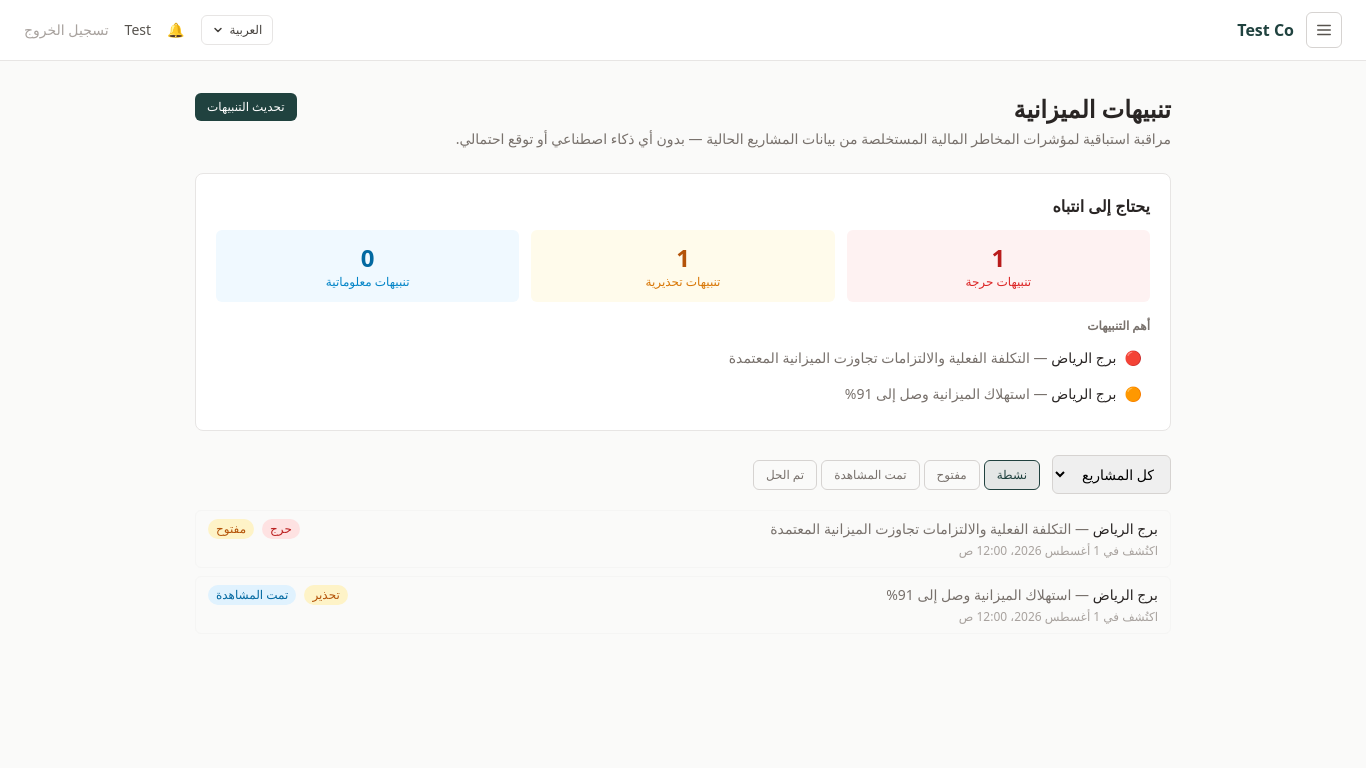
Test: <BudgetAlerts/> › a member cannot see acknowledge/resolve controls (UI-only mirror of the server gate)
Expected: the text "— التكلفة الفعلية والالتزامات تجاوزت الميزانية المعتمدة" below "أهم التنبيهات" is shown, [729,348,1030,367]
Click the text "— التكلفة الفعلية والالتزامات تجاوزت الميزانية المعتمدة" below "أهم التنبيهات".
click(1041, 358)  # box [729,348,1051,367]
(page scrolled)
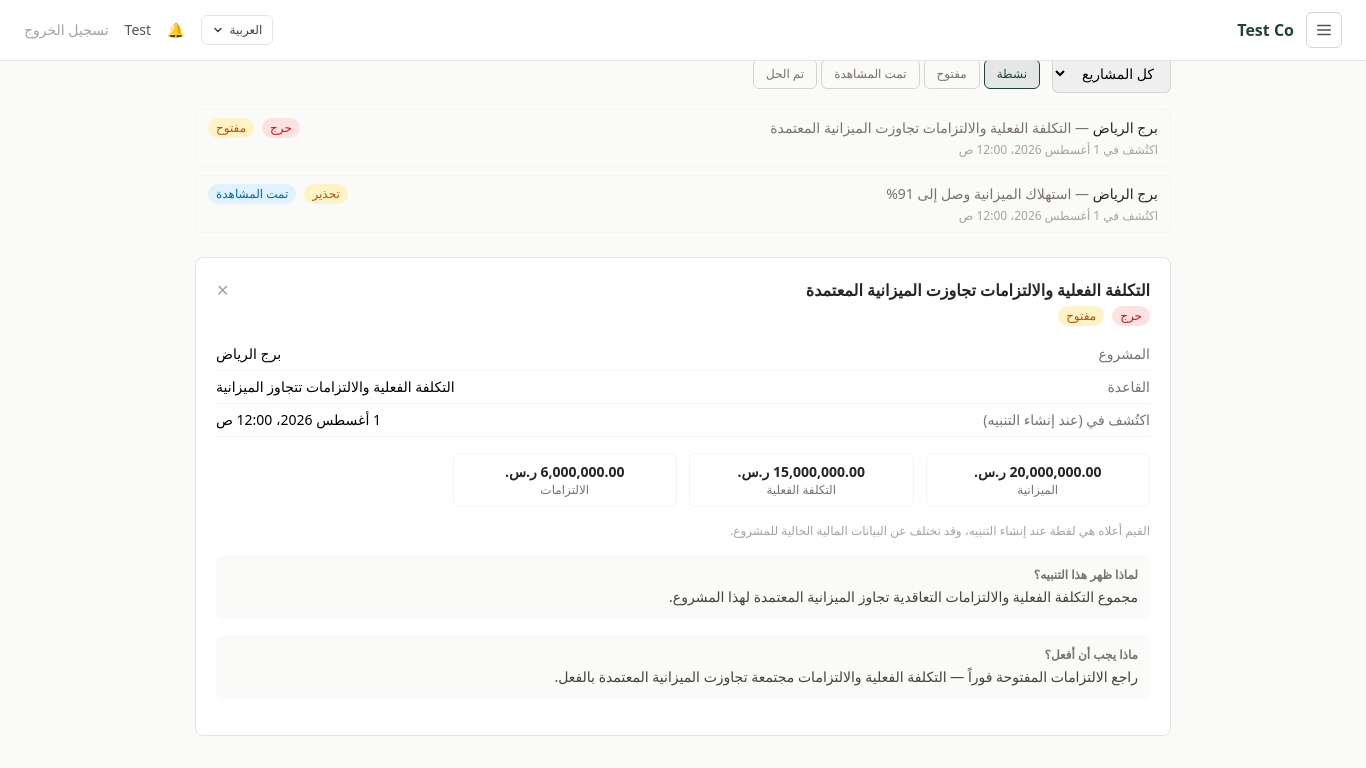
Now the text "لماذا ظهر هذا التنبيه؟" is shown, box [1034,566,1138,583]
